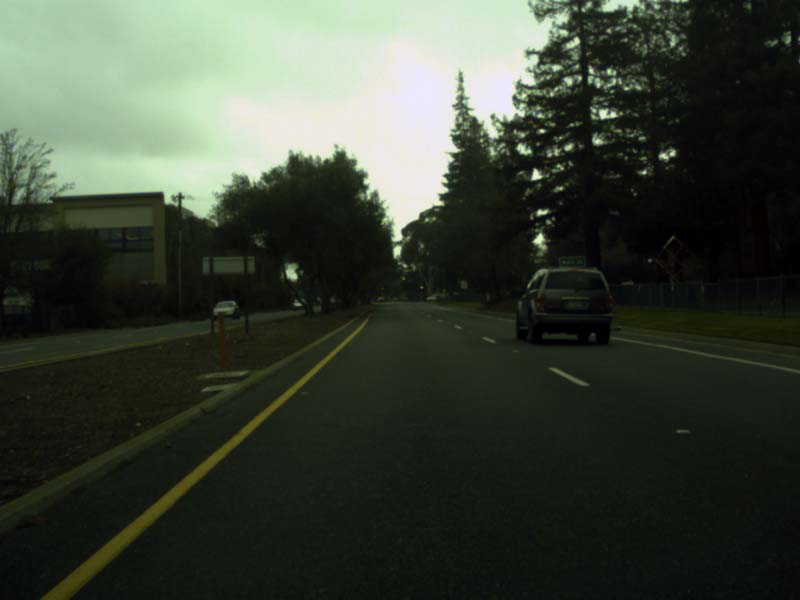Red: (401, 273, 408, 284), (379, 284, 385, 293), (419, 282, 423, 291)
